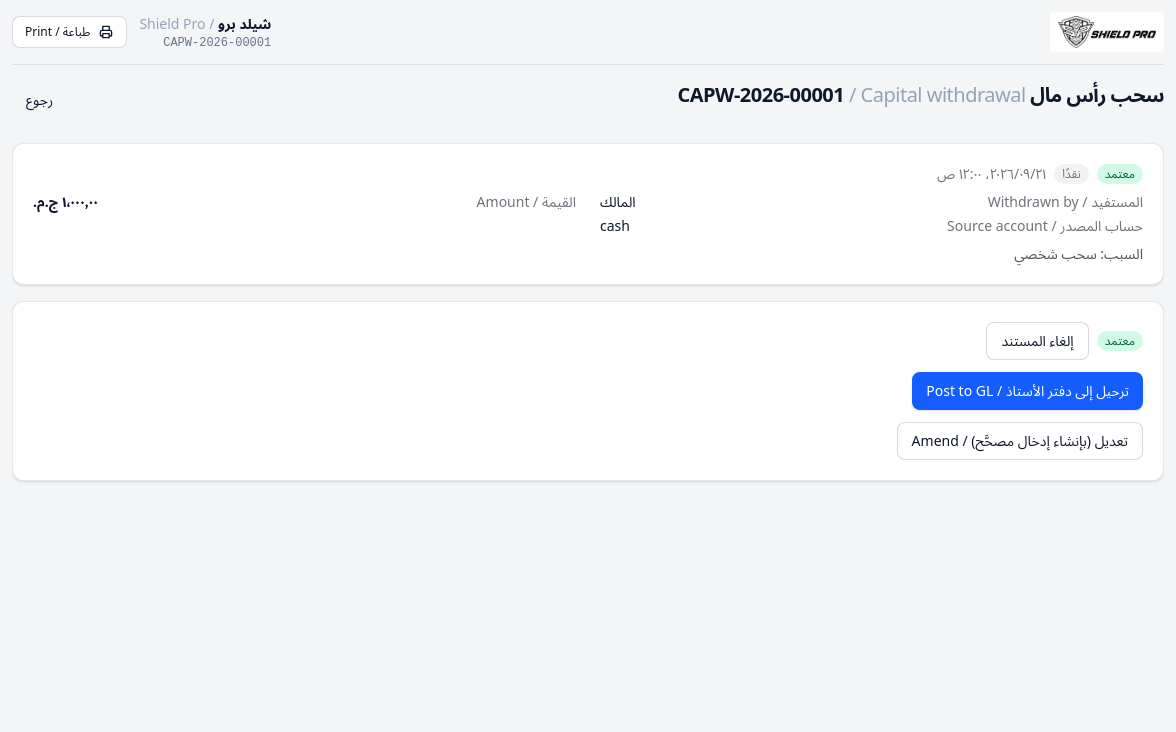
Test case: CapitalWithdrawalDetailPage › posts a submitted withdrawal to the GL with Dr owners_drawings / Cr the source account
This screenshot has width=1176, height=732.
Click the button "ترحيل إلى دفتر الأستاذ / Post to GL" at [1028, 391], box 912,372 -> 1143,410
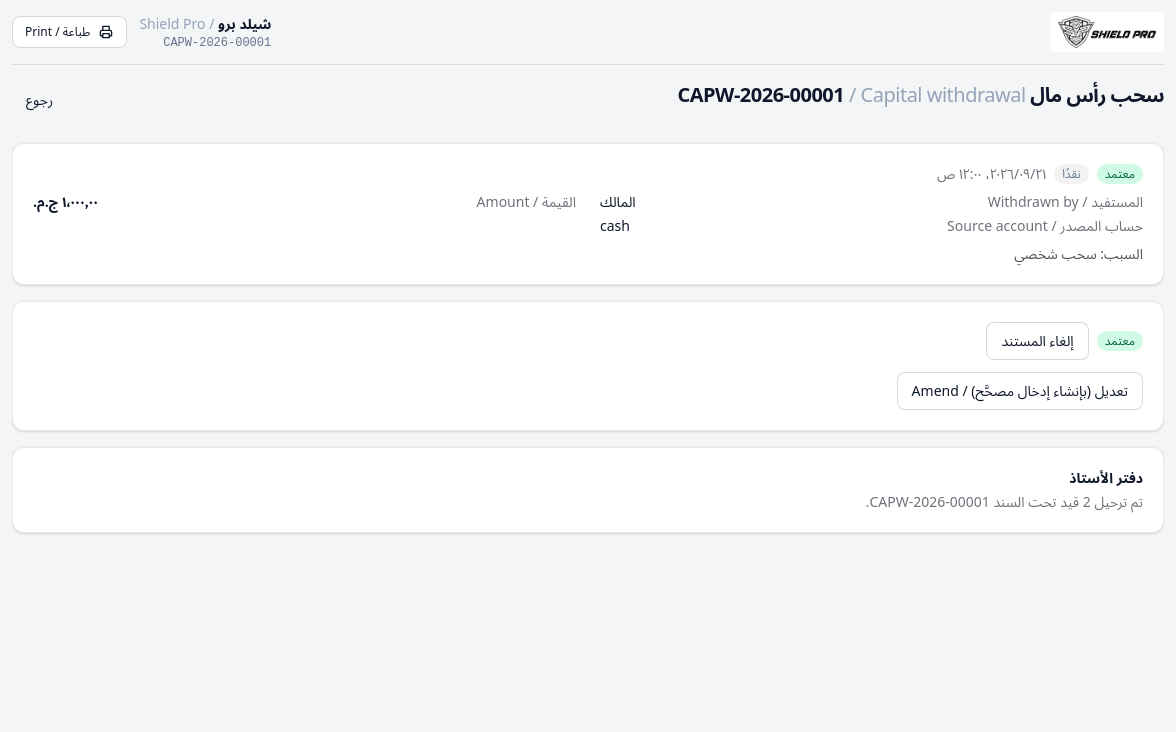
Now the text "تم ترحيل 2 قيد تحت السند CAPW-2026-00001." is shown, box 866,492 -> 1143,511
